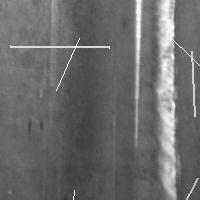scratches: (149, 1, 182, 199), (165, 32, 200, 100), (129, 1, 144, 150), (51, 33, 84, 95), (152, 173, 200, 200), (5, 41, 114, 52), (187, 46, 200, 121), (64, 185, 79, 200)
